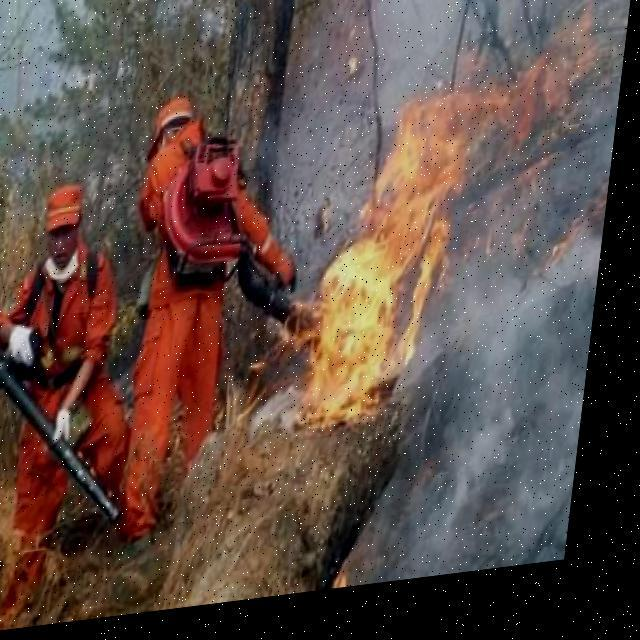Fire: (296, 55, 595, 448)
